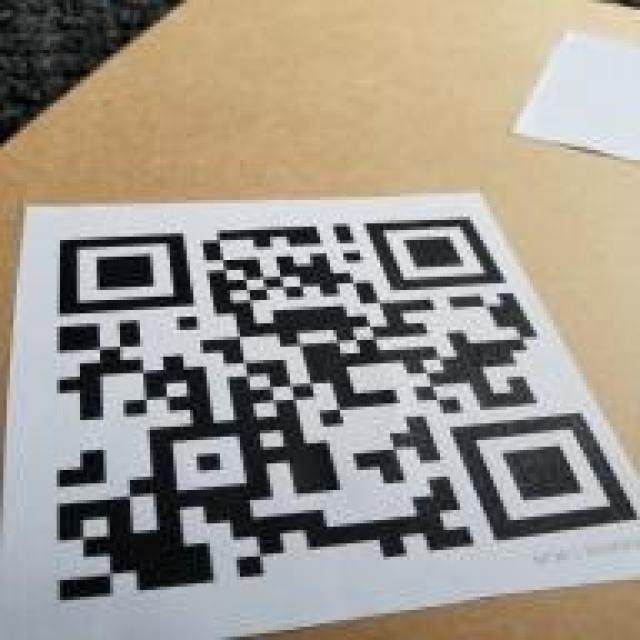QR_CODE: (25, 200, 640, 610)
